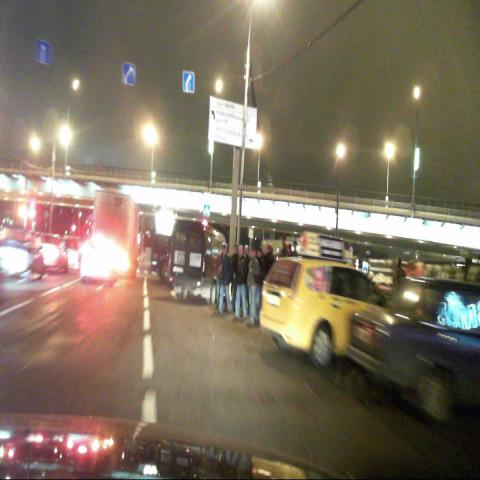5_15_2: (36, 41, 50, 66)
